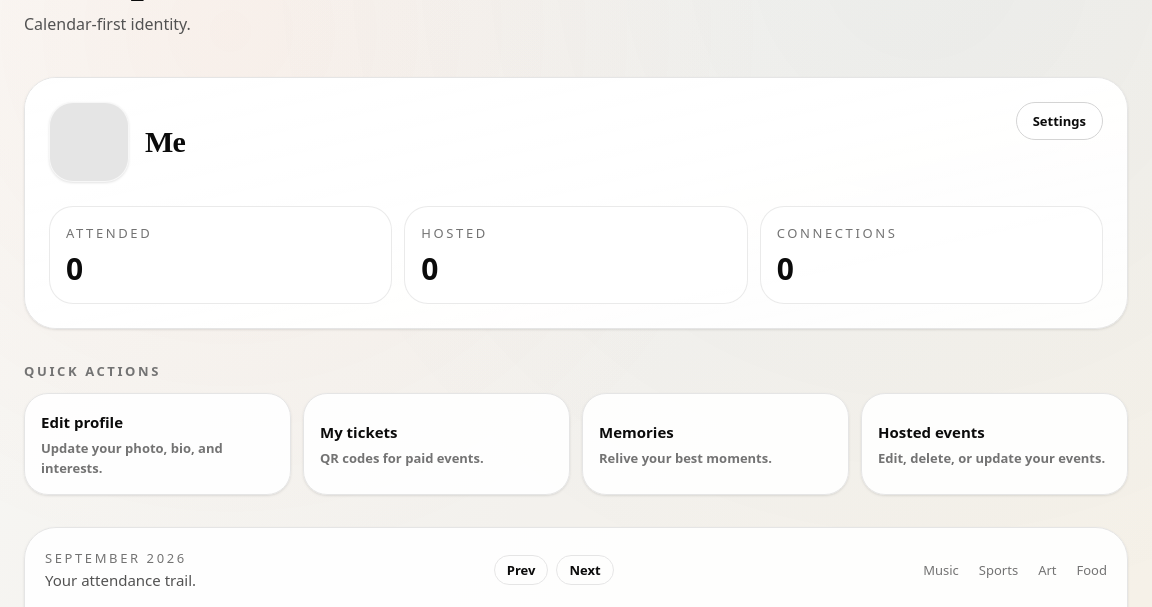
Test case: list pages degrade when their API fails › ProfilePage shows no connections when that request fails
This screenshot has width=1152, height=607.
Click the button "Connections 0" at (837, 233), box [760,206,1103,304]
(page scrolled)
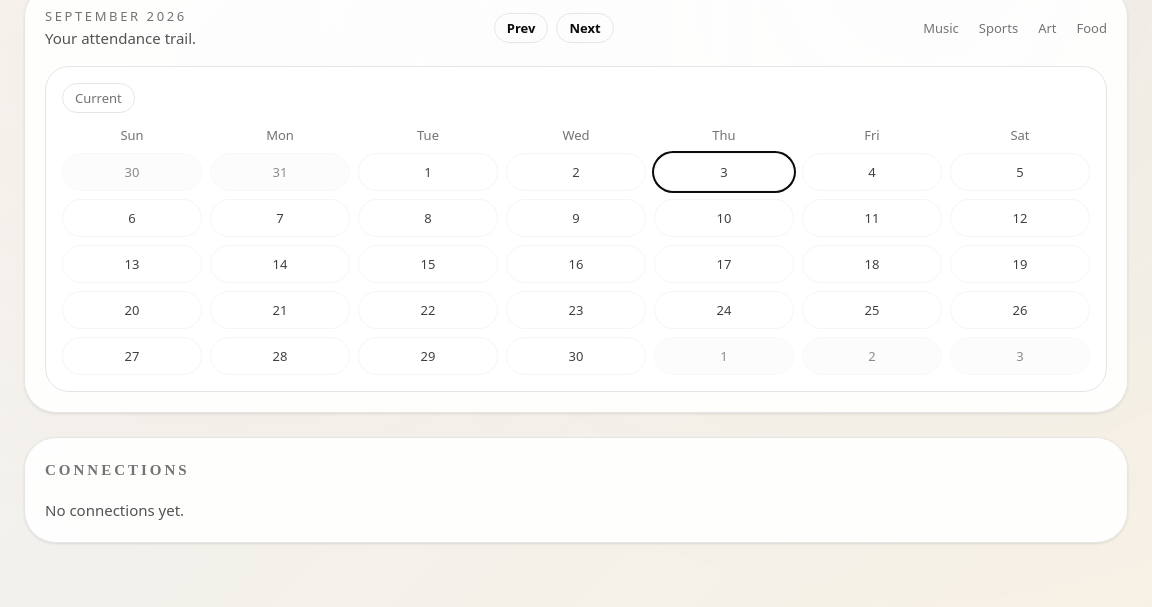
Expected: the text "No connections yet." is shown, [45,500,184,520]
